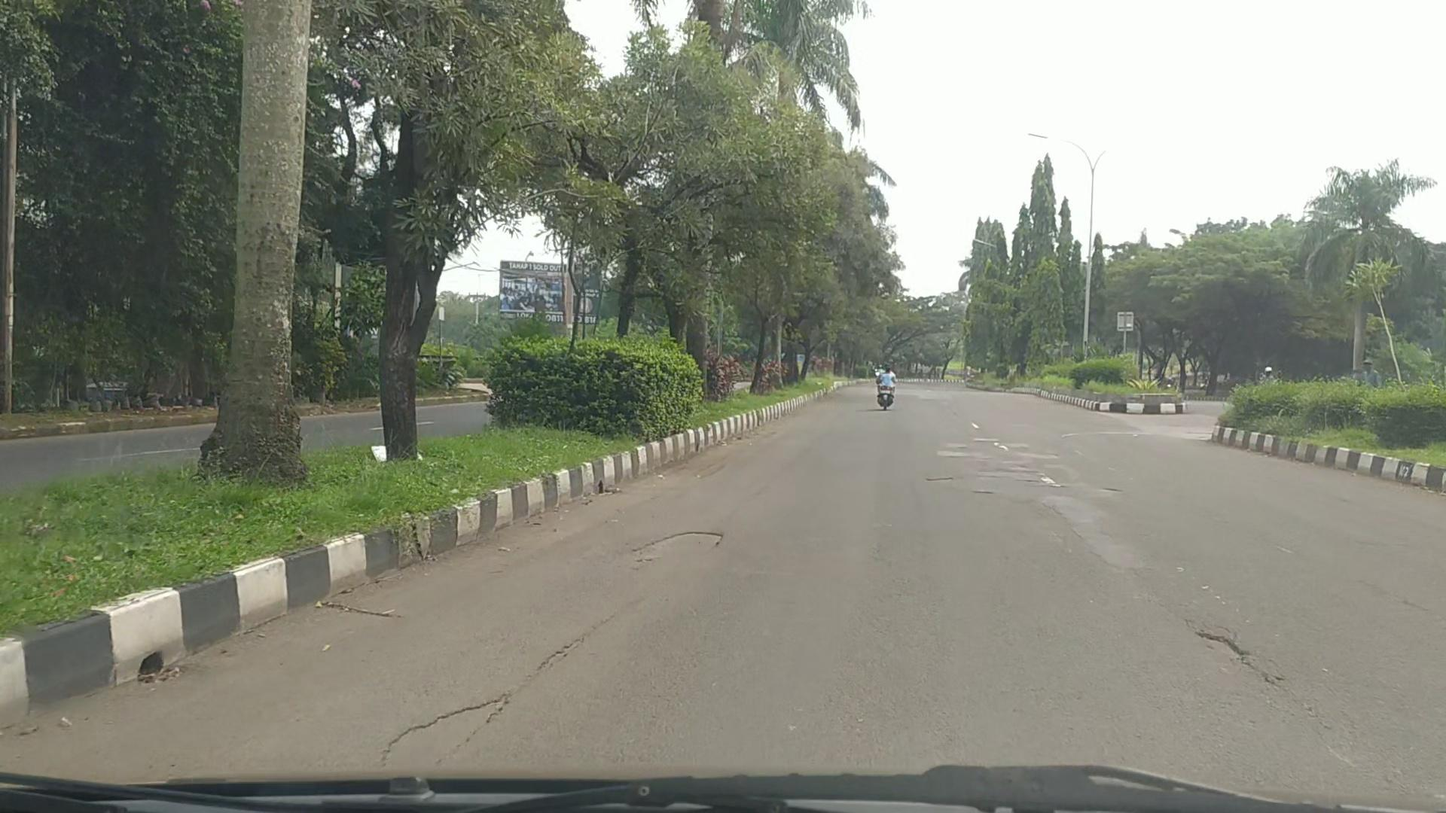pothole: (381, 692, 510, 769), (632, 531, 722, 560), (535, 635, 584, 671), (1194, 631, 1245, 661)
